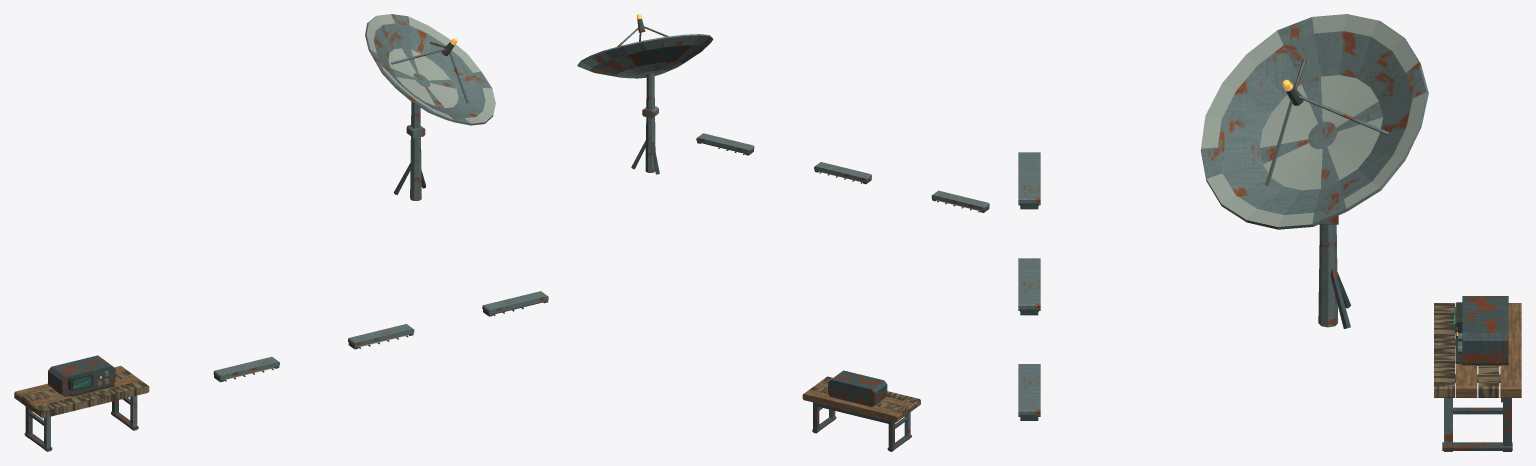
Rendered from station_fittings.glb.
3 renders of one model, left to right at view 1: azimuth 30°, elevation 25°; view 2: azimuth 150°, elevation 25°; view 3: azimuth 270°, elevation 25°, orthographic. The views are drawn at different scales.
Parts seen in each view (by area): view 1: DishReflectorAndMast, LoggingDeskAndRadio, EnamelLightGuards; view 2: DishReflectorAndMast, LoggingDeskAndRadio, EnamelLightGuards; view 3: DishReflectorAndMast, LoggingDeskAndRadio, EnamelLightGuards.
Boxes of the visible parts, box(x1,y1,x2,y2) form: DishReflectorAndMast: box(365, 14, 495, 200); LoggingDeskAndRadio: box(14, 355, 149, 451); EnamelLightGuards: box(213, 291, 548, 382); DishReflectorAndMast: box(577, 14, 713, 174); LoggingDeskAndRadio: box(802, 370, 920, 451); EnamelLightGuards: box(696, 133, 989, 212); DishReflectorAndMast: box(1200, 14, 1428, 328); LoggingDeskAndRadio: box(1434, 296, 1521, 451); EnamelLightGuards: box(1018, 152, 1040, 420).
Bounding box in the file's own units: 8.76 × 7.51 × 5.73.
11 materials, 4 textured.
